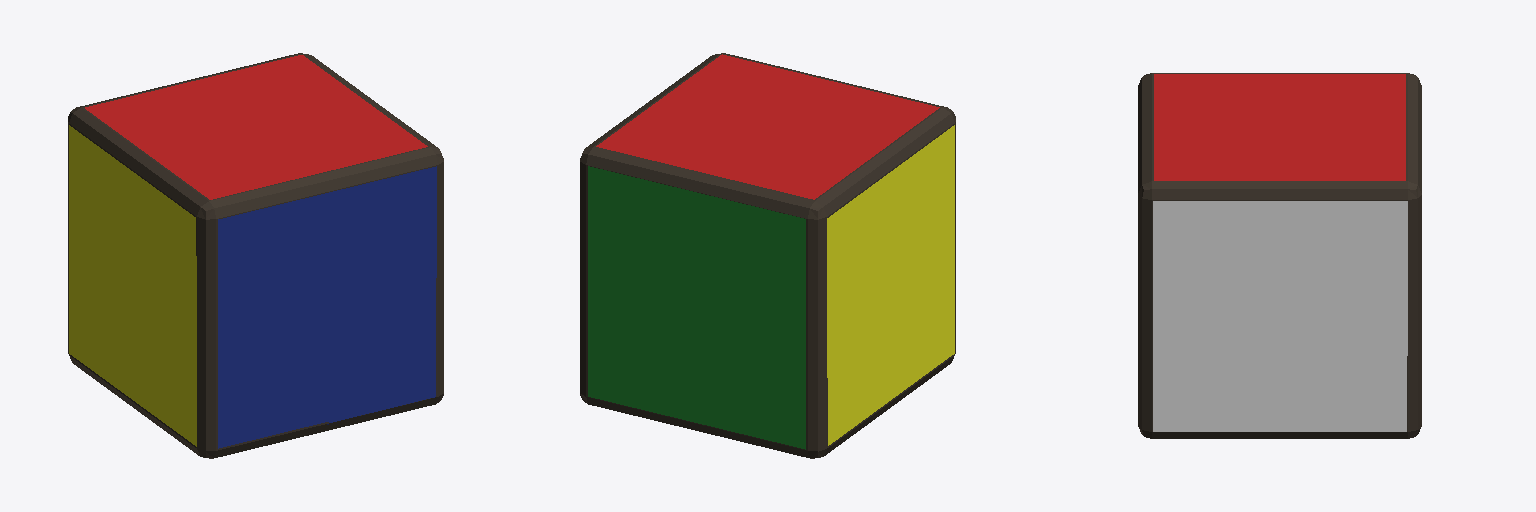
3 views of the same model, side by side, from view 1: azimuth 30°, elevation 25°; view 2: azimuth 150°, elevation 25°; view 3: azimuth 270°, elevation 25° (orthographic).
Parts seen in each view (by area): view 1: Cube; view 2: Cube; view 3: Cube.
Boxes of the visible parts, <box> form: Cube: <box>68,53,443,458</box>; Cube: <box>580,53,955,458</box>; Cube: <box>1138,73,1421,438</box>.
Bounding box in the file's own units: 1 × 1 × 1.
1 materials, 1 textured.